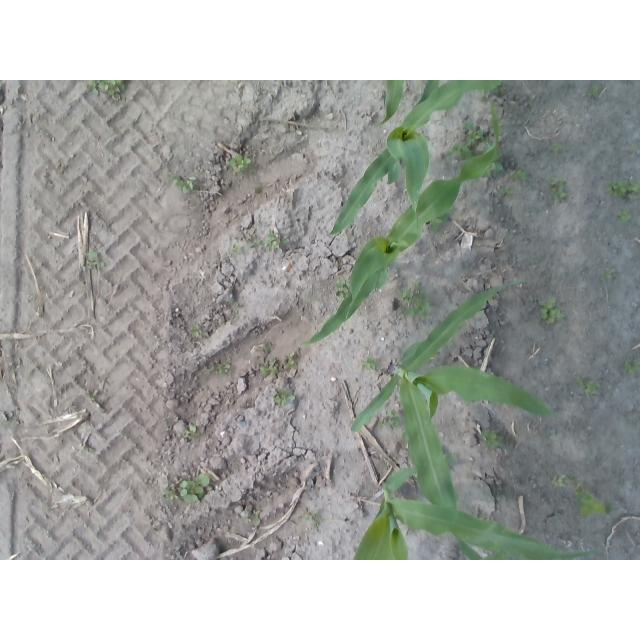Maize: (352, 276, 553, 560), (304, 102, 501, 347), (353, 452, 618, 560), (328, 81, 500, 236), (379, 80, 439, 124)
Weeds: (576, 485, 609, 520), (402, 282, 430, 319), (179, 473, 210, 504), (538, 297, 565, 325), (86, 80, 125, 96), (482, 427, 504, 449), (609, 182, 639, 198), (172, 177, 198, 194), (379, 410, 399, 431), (276, 389, 297, 408), (259, 359, 279, 378), (446, 143, 471, 158), (229, 155, 252, 171), (552, 177, 568, 200), (579, 377, 598, 395), (282, 350, 299, 370), (362, 356, 383, 372), (464, 122, 481, 139), (623, 357, 638, 376), (268, 234, 288, 248), (246, 234, 265, 248), (204, 365, 230, 375), (336, 278, 348, 298), (551, 473, 566, 487), (165, 489, 179, 503), (512, 168, 527, 180), (263, 341, 274, 357), (586, 86, 599, 99), (184, 425, 197, 437), (193, 325, 204, 338), (618, 211, 630, 222), (490, 163, 503, 173), (605, 267, 615, 280), (253, 510, 260, 527), (502, 186, 513, 195), (233, 244, 242, 254), (87, 249, 97, 258), (552, 143, 561, 153), (305, 513, 315, 521), (97, 260, 104, 269), (87, 261, 94, 269), (245, 518, 251, 523)
